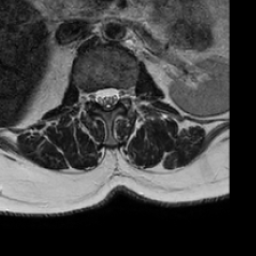CCS_normal: (104, 81, 111, 117)
LFS_normal: (120, 81, 128, 106)
LLS_normal: (111, 82, 120, 108)
RFS_normal: (85, 83, 95, 107)
RLS_normal: (95, 82, 104, 111)
